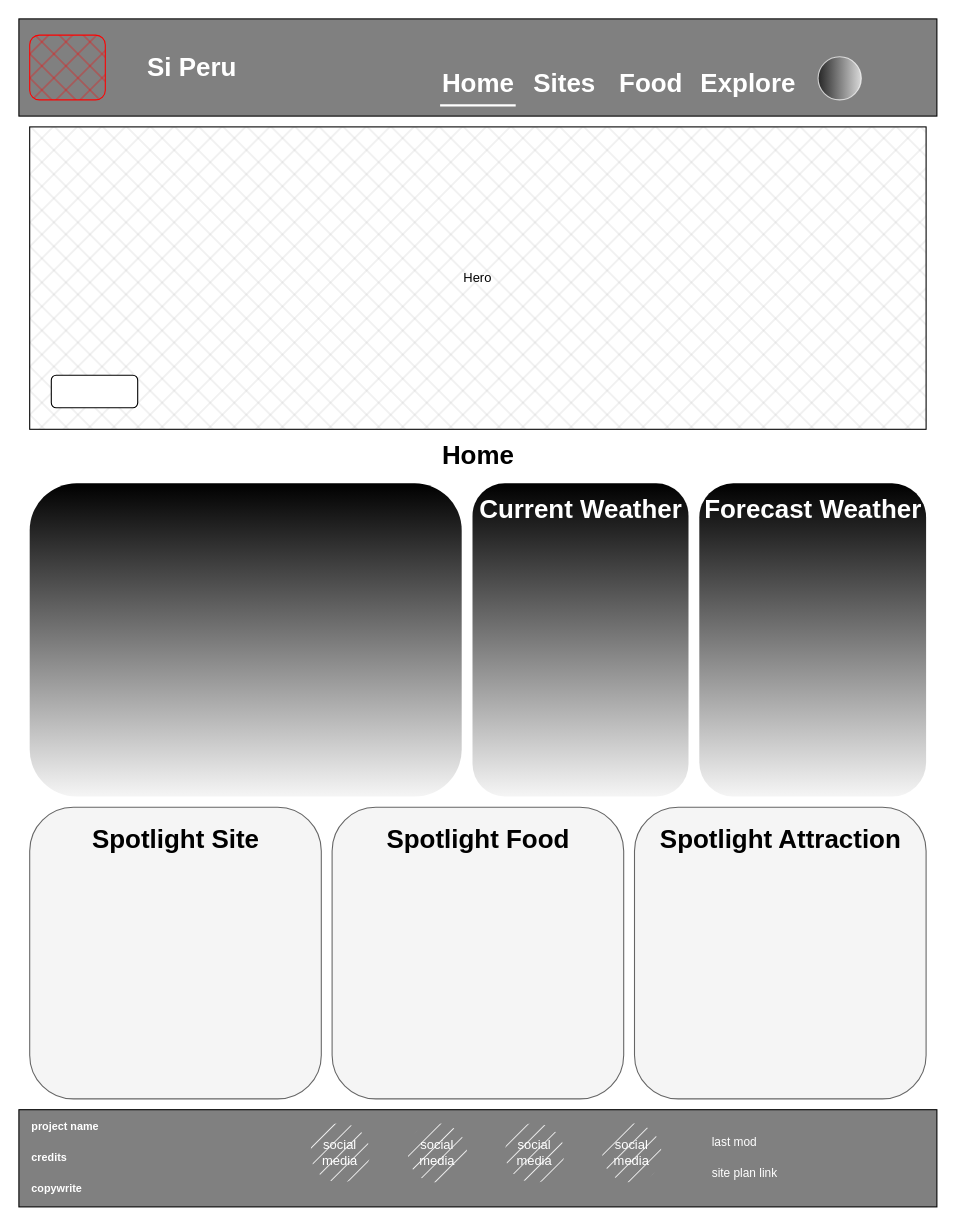
This 956x1226 diagram has some shape labels left out. The shapes that lost their labels are listed below. From the top down, each one's centre as x and y in pixels, then its label:
At [67,67]: "logo".
At [839,78]: "dark mode".
At [94,391]: "call to action".
At [245,639]: "Current Events / News".
